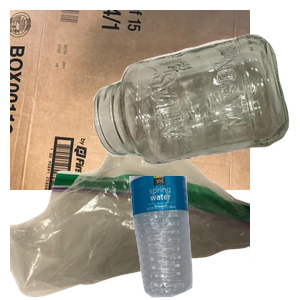cardboard: (10, 10, 250, 190)
glass: (91, 32, 300, 189)
plastic: (127, 176, 300, 300)
trash: (10, 134, 250, 300)
